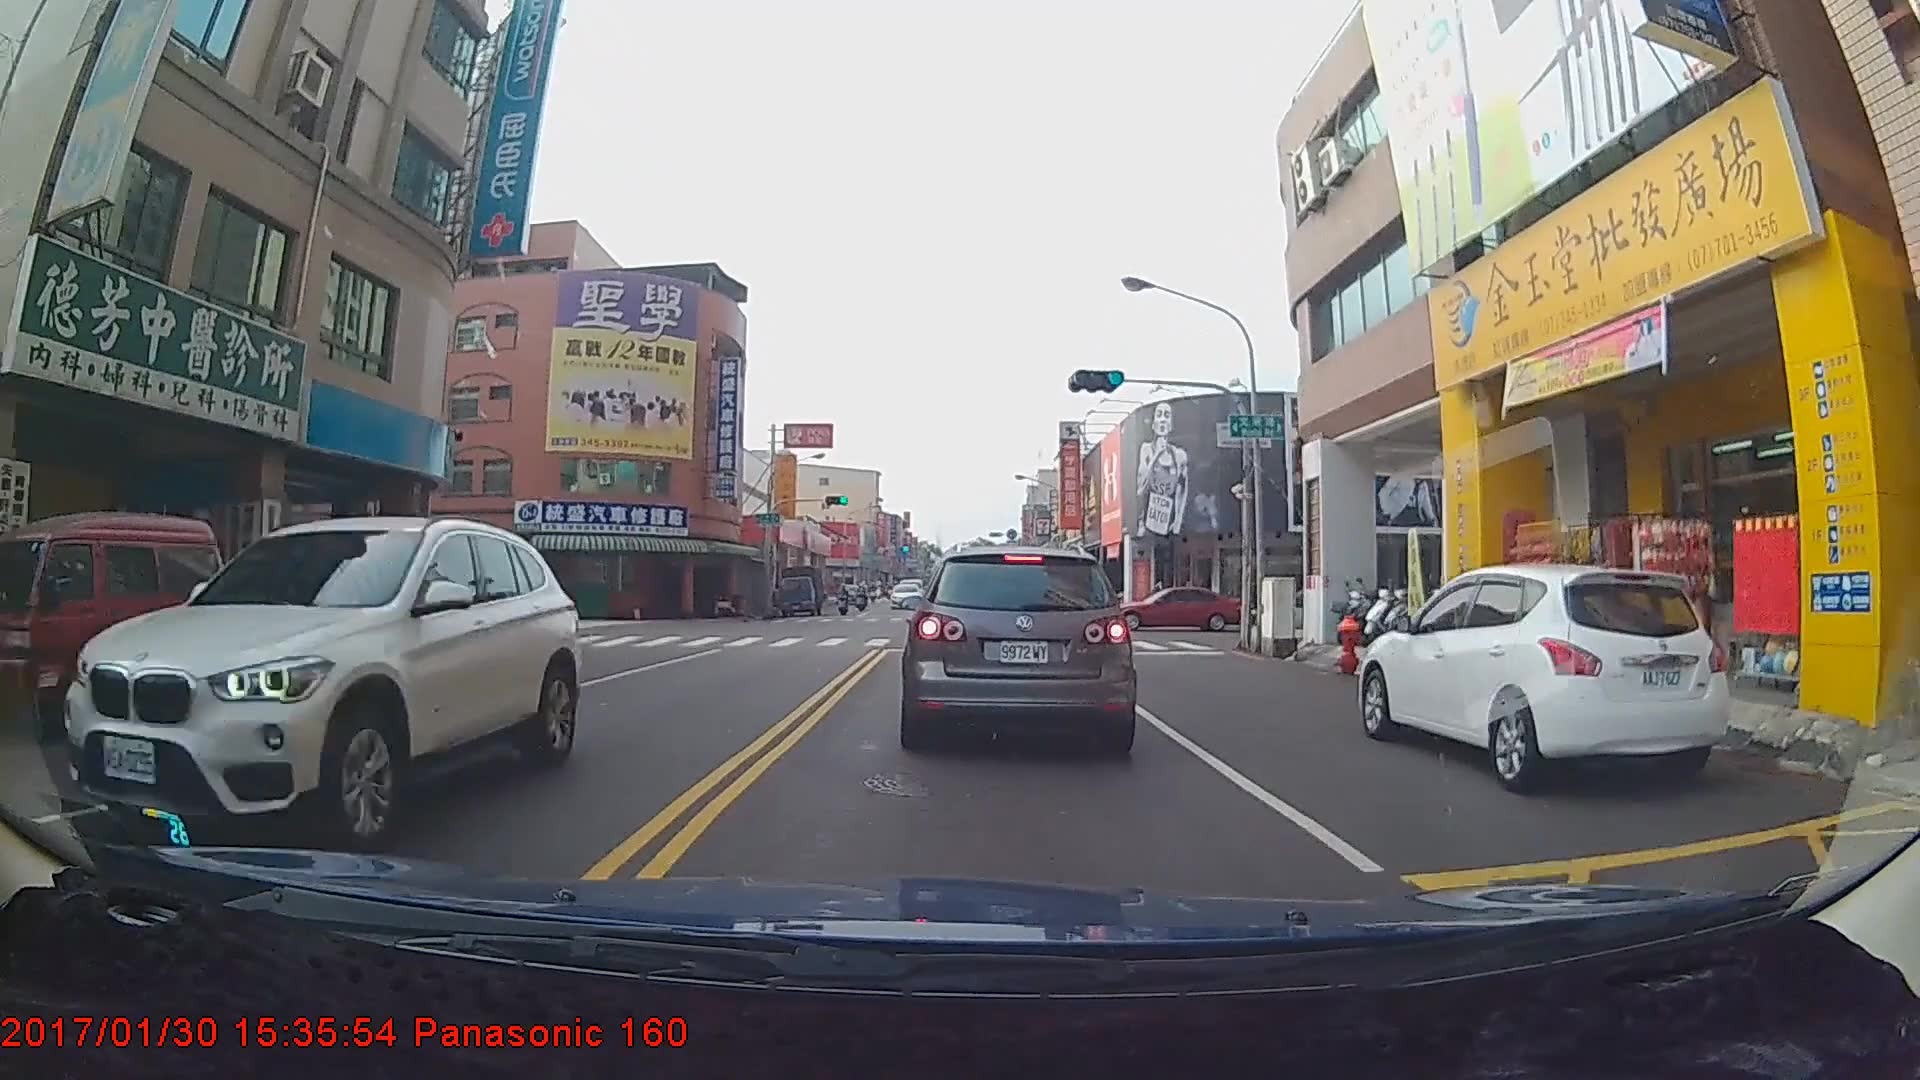rider: (831, 578, 854, 613), (847, 576, 867, 605)
vehicle: (60, 514, 580, 861), (1358, 561, 1730, 792), (0, 513, 227, 732), (903, 542, 1130, 751), (1105, 583, 1239, 634), (774, 563, 826, 615), (889, 580, 923, 609)
